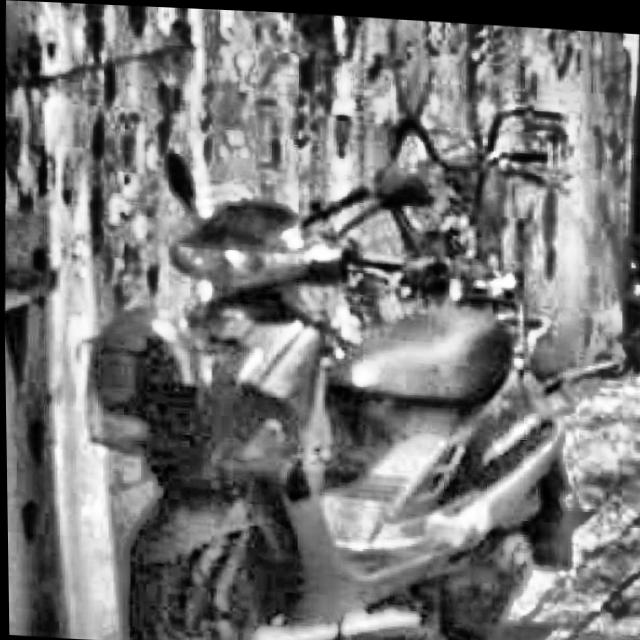bike: (328, 81, 572, 345)
motorcycle: (46, 154, 619, 640)
